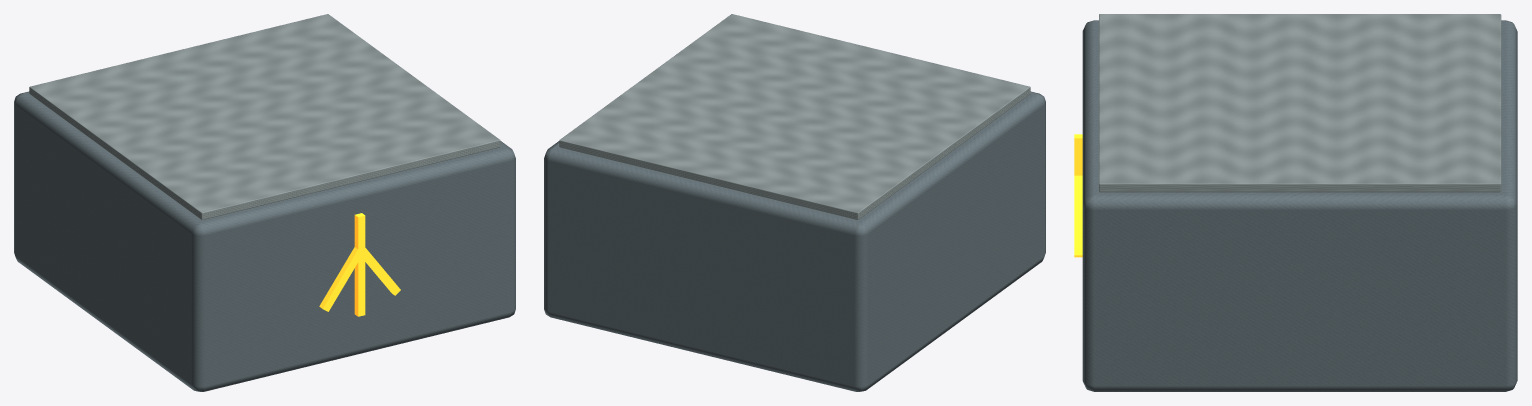
File: dwarven-runeforge-dungeon-dwarven-runeforge-dungeon-br-711fddaa__28582.glb
The picture shows the model from 3 angles, left to right: view 1: azimuth 30°, elevation 25°; view 2: azimuth 150°, elevation 25°; view 3: azimuth 270°, elevation 25°; orthographic projection. The views are drawn at different scales.
Parts seen in each view (by area): view 1: dwarven-runeforge-dungeon-bridge-end-landing; view 2: dwarven-runeforge-dungeon-bridge-end-landing; view 3: dwarven-runeforge-dungeon-bridge-end-landing.
Boxes of the visible parts, x1,y1,x2,y2 form: dwarven-runeforge-dungeon-bridge-end-landing: (14, 14, 515, 391); dwarven-runeforge-dungeon-bridge-end-landing: (544, 14, 1045, 391); dwarven-runeforge-dungeon-bridge-end-landing: (1074, 14, 1517, 391).
Bounding box in the file's own units: 2 × 1.05 × 2.04.
Materials: 3 (2 with a texture image).
